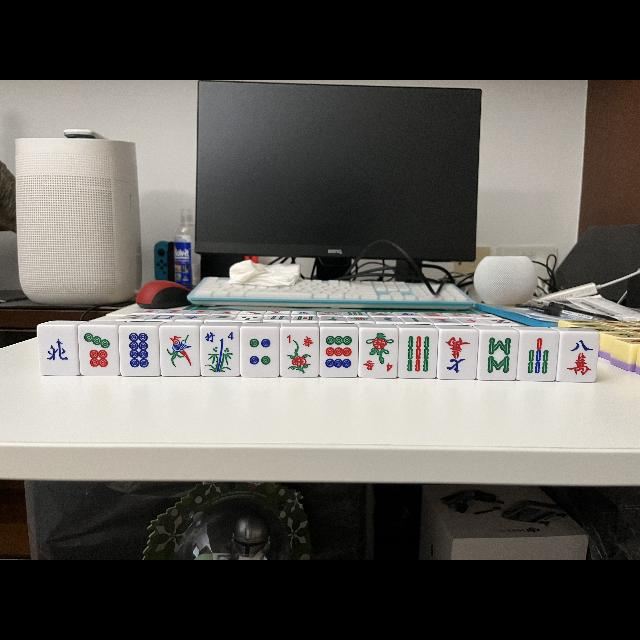b1: (160, 326, 200, 376)
b7: (519, 331, 557, 381)
b8: (479, 331, 516, 382)
b9: (399, 328, 436, 378)
c7: (437, 328, 477, 380)
c8: (558, 332, 598, 382)
d4: (240, 327, 280, 377)
d7: (78, 326, 120, 376)
d8: (119, 326, 160, 376)
d9: (320, 328, 358, 377)
f4: (200, 326, 240, 344)
s1: (281, 328, 319, 350)
s4: (359, 358, 398, 377)
wn: (37, 325, 79, 375)
